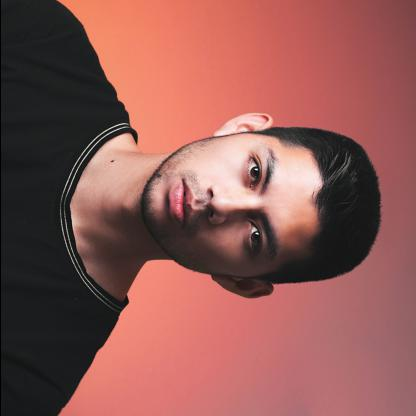Eye: (243, 150, 265, 191), (243, 219, 263, 259)
Mouth: (165, 174, 199, 230)
Nose: (206, 186, 254, 223)
